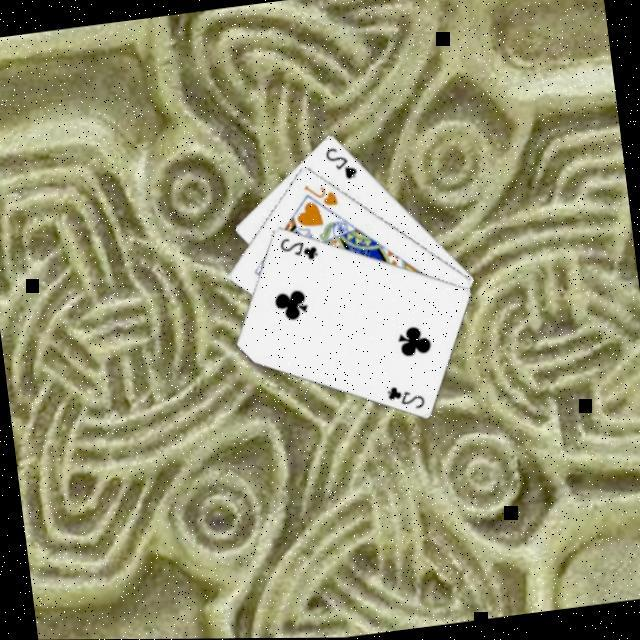2C: (273, 230, 319, 266), (380, 378, 426, 414)
2S: (318, 140, 358, 184)
JH: (298, 177, 339, 211)
